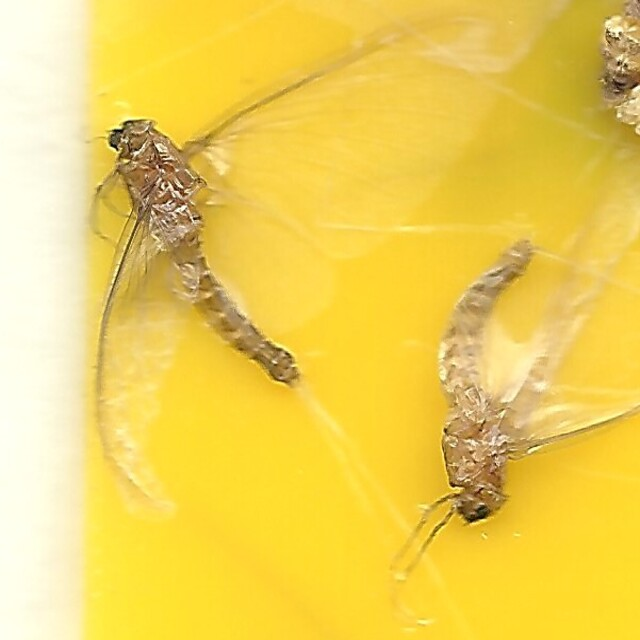Ephemeroptera: (106, 113, 302, 383), (448, 231, 534, 527)
